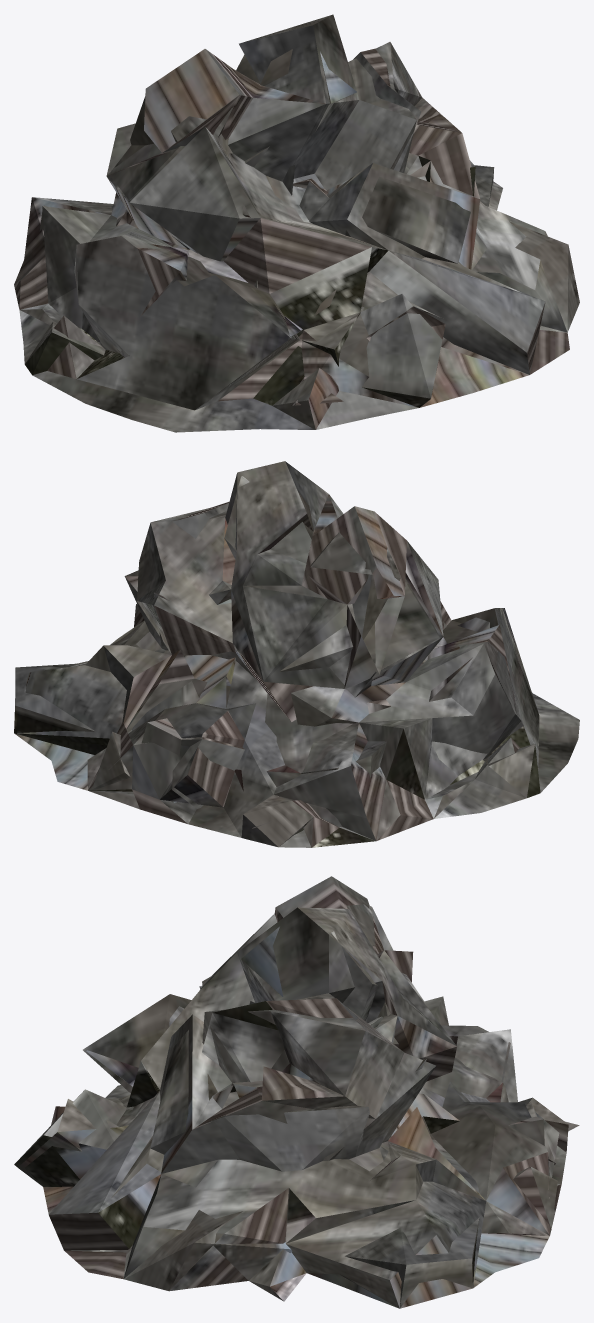
The model's file is rubble1.glb.
3 renders of one model, top to bottom at view 1: azimuth 30°, elevation 25°; view 2: azimuth 150°, elevation 25°; view 3: azimuth 270°, elevation 25°, orthographic. The views are drawn at different scales.
Bounding box in the file's own units: 4.67 × 2.52 × 4.41.
1 material, 1 textured.
